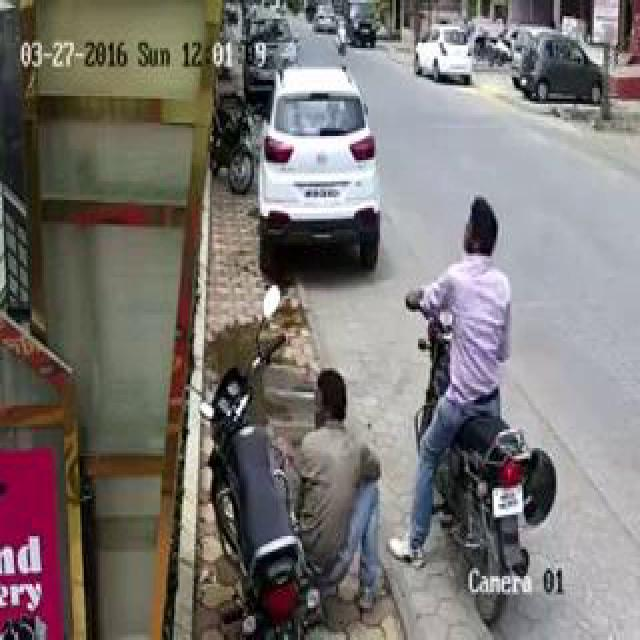stealing: (230, 94, 640, 618)
